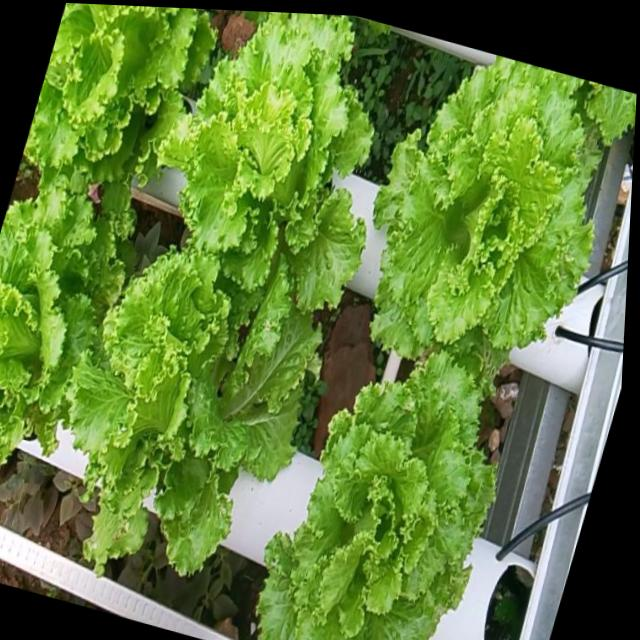Mature: (65, 245, 317, 625), (367, 55, 637, 381), (253, 352, 495, 640), (153, 12, 369, 315), (19, 3, 208, 214), (0, 192, 118, 464)
